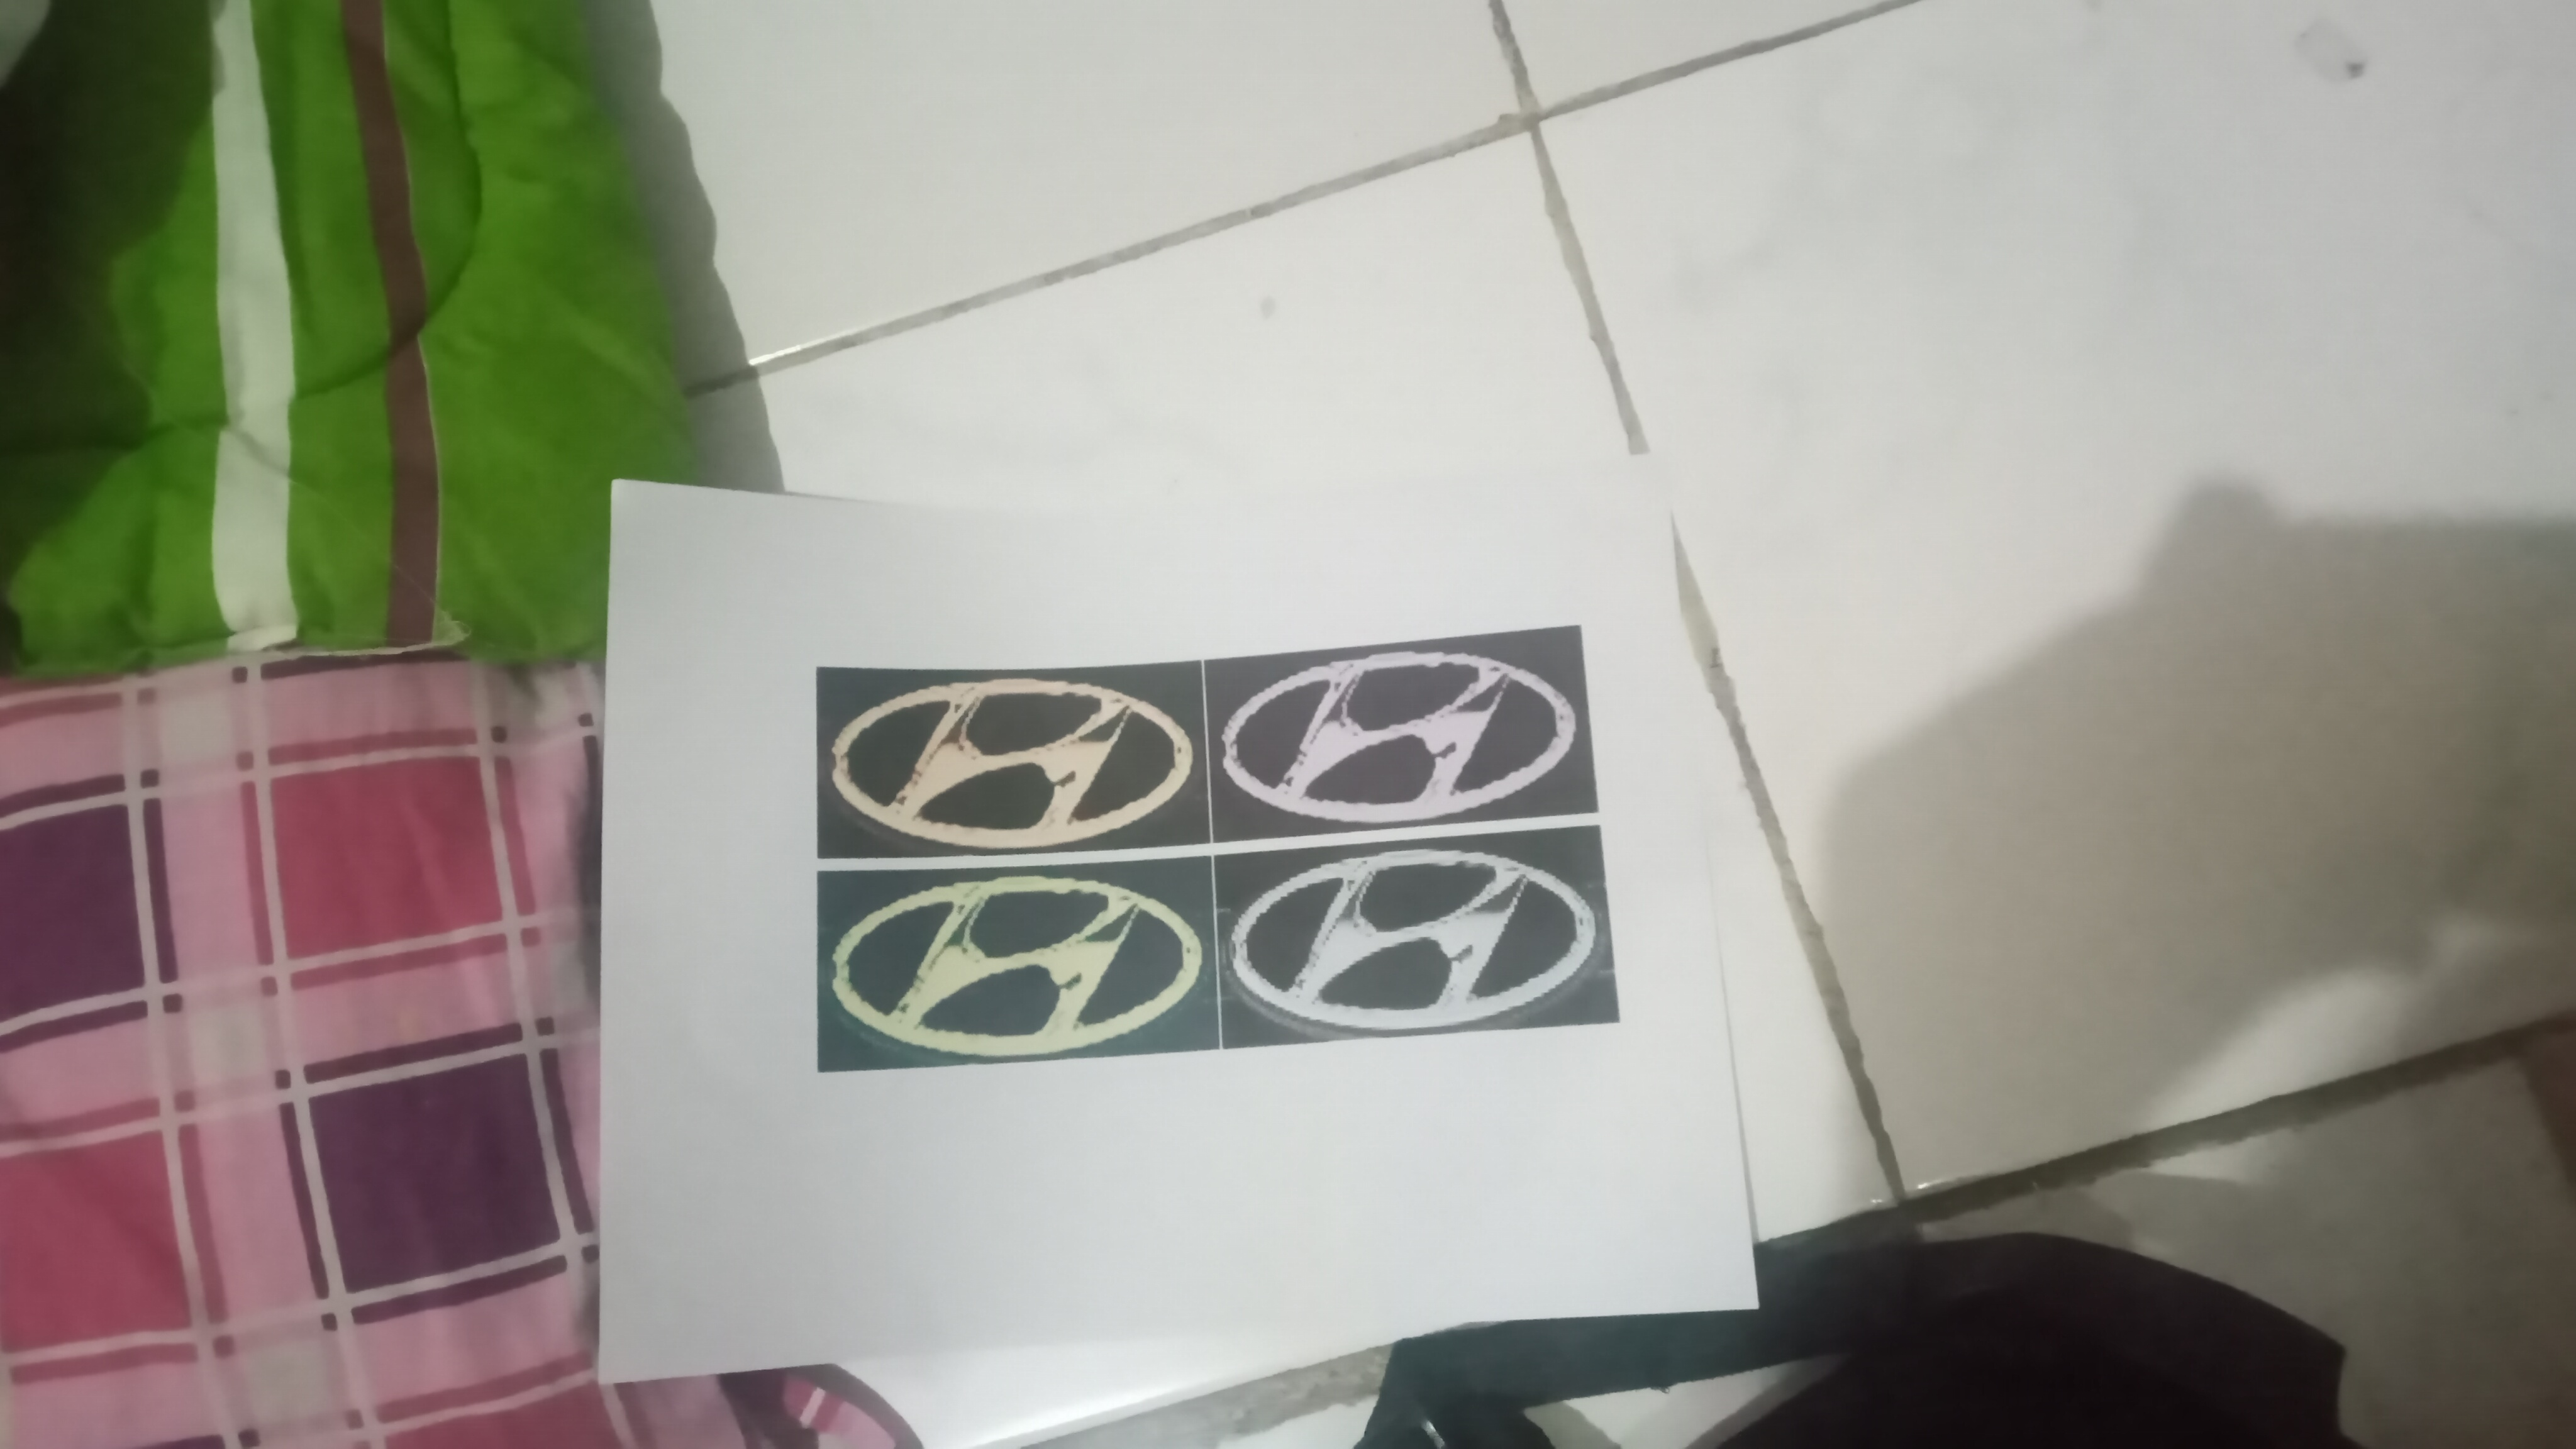Hyundai: (1219, 842, 1626, 1033), (816, 862, 1203, 1060), (824, 660, 1200, 853), (1208, 646, 1583, 832)
